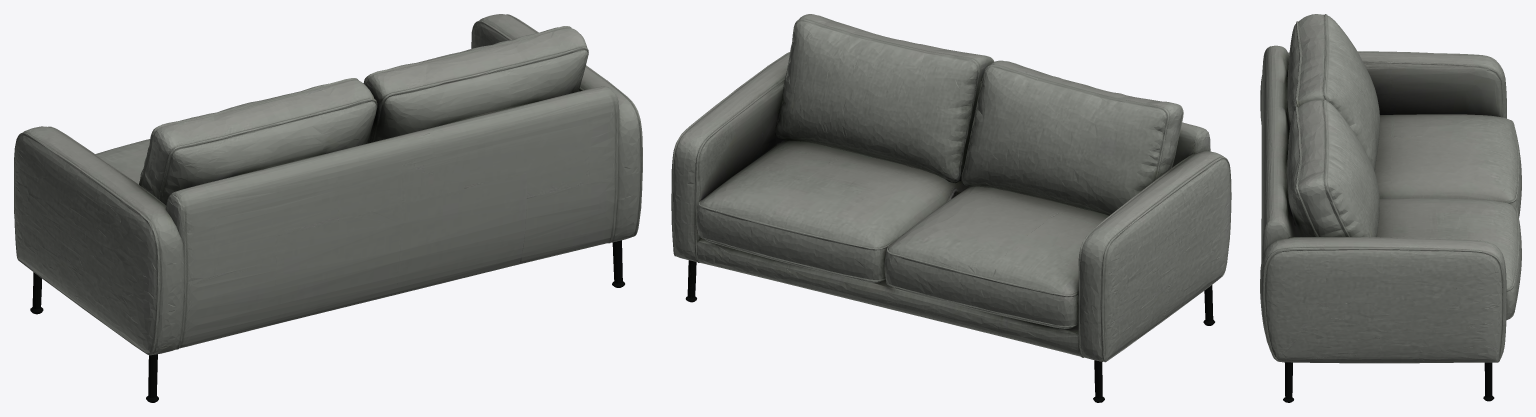
3 views of the same model, side by side, from view 1: azimuth 30°, elevation 25°; view 2: azimuth 150°, elevation 25°; view 3: azimuth 270°, elevation 25° (orthographic). The views are drawn at different scales.
Visible parts, largest first — view 1: geometry_0; view 2: geometry_0; view 3: geometry_0.
Boxes of the visible parts, x1,y1,x2,y2 form: geometry_0: (14, 14, 642, 402); geometry_0: (671, 14, 1231, 402); geometry_0: (1260, 14, 1521, 402).
Size of the model in its own units: 1.77 by 0.8594 by 0.9632.
Materials: 1 (1 with a texture image).
